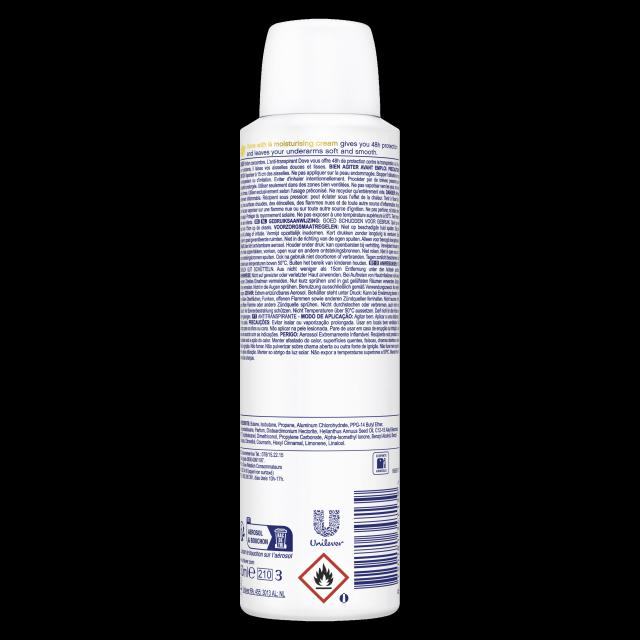GHS_Symbol_FLAME: (298, 553, 349, 604)
